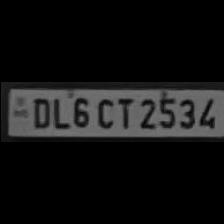2: (135, 95, 155, 129)
3: (176, 96, 194, 128)
4: (195, 96, 217, 128)
5: (156, 94, 174, 128)
6: (68, 93, 90, 126)
C: (92, 96, 114, 128)
D: (28, 96, 50, 128)
L: (49, 94, 67, 128)
T: (114, 95, 134, 129)
